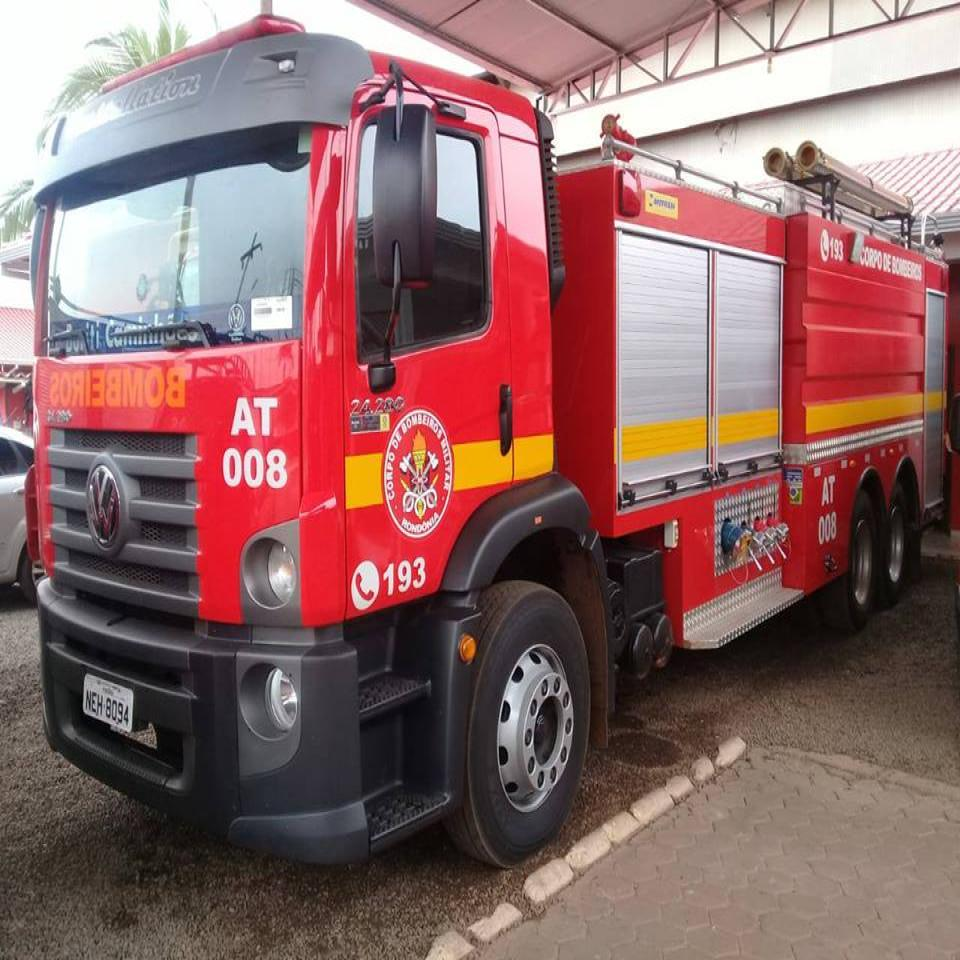viatura: (28, 9, 960, 880)
